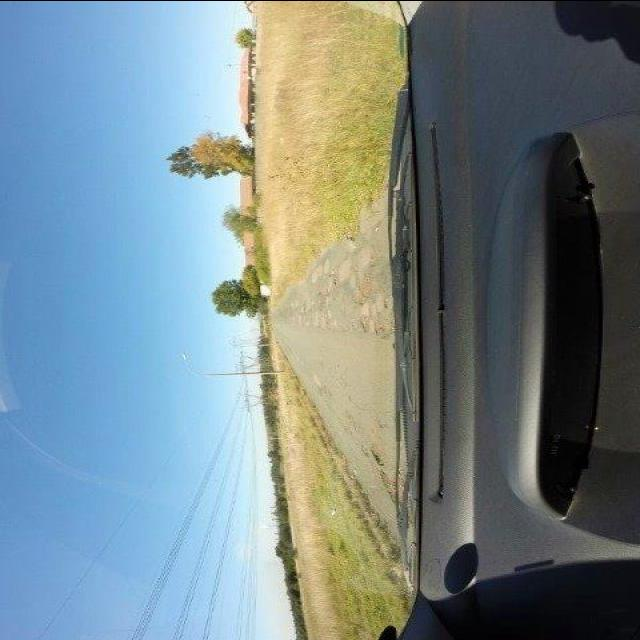lubang: (347, 264, 393, 338), (369, 430, 394, 504), (348, 270, 372, 302), (338, 220, 364, 244), (327, 264, 345, 288), (315, 306, 333, 330), (310, 376, 328, 398), (314, 282, 332, 298), (357, 442, 371, 459), (298, 300, 306, 316)
